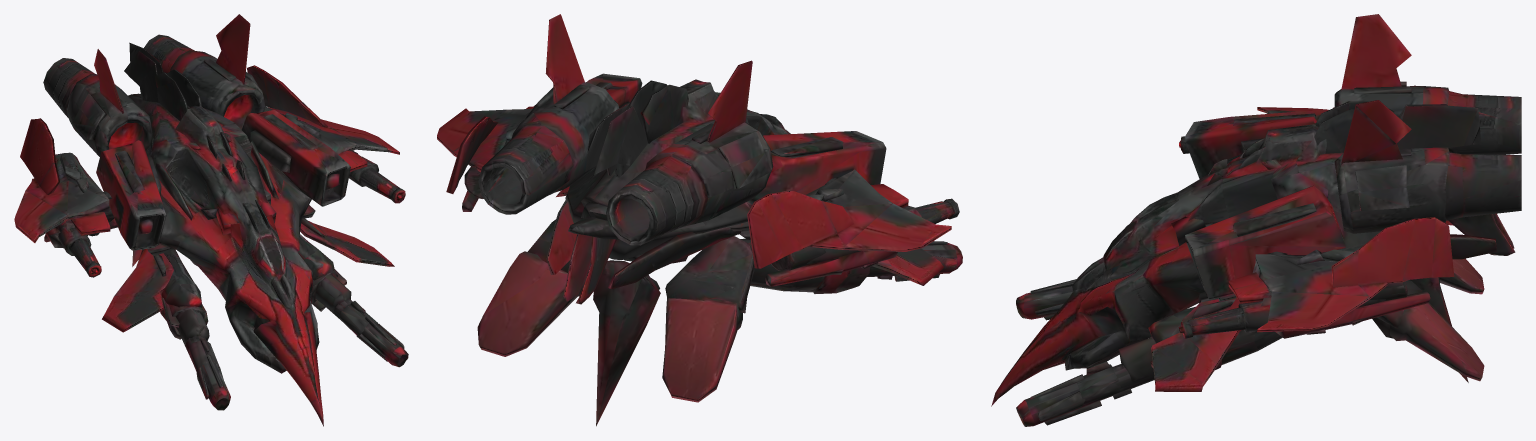
Rendered from ballista.glb.
3 renders of one model, left to right at view 1: azimuth 30°, elevation 25°; view 2: azimuth 150°, elevation 25°; view 3: azimuth 270°, elevation 25°, orthographic. The views are drawn at different scales.
Size of the model in its own units: 0.9883 by 0.7285 by 1.
1 material, 1 textured.
